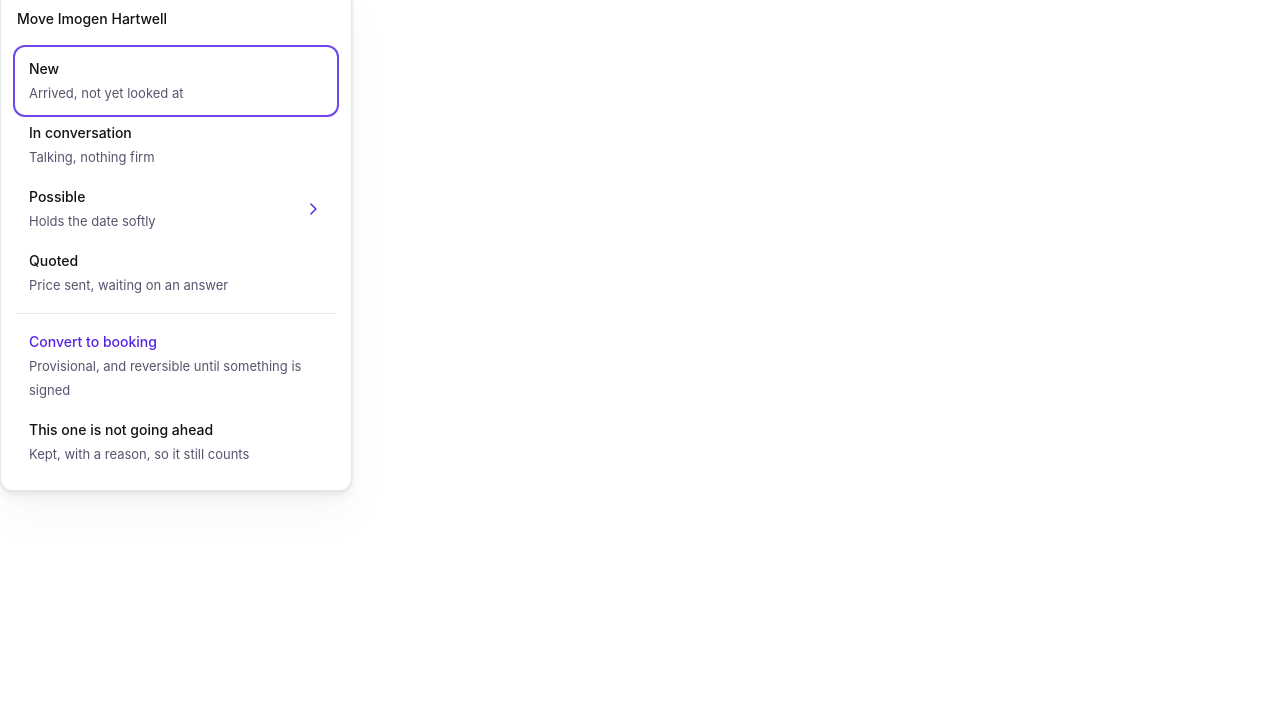
the second view › lists nine reasons under two headings
Click the button that starts with "This one is not going ahead": click(121, 430) [17, 410, 335, 474]
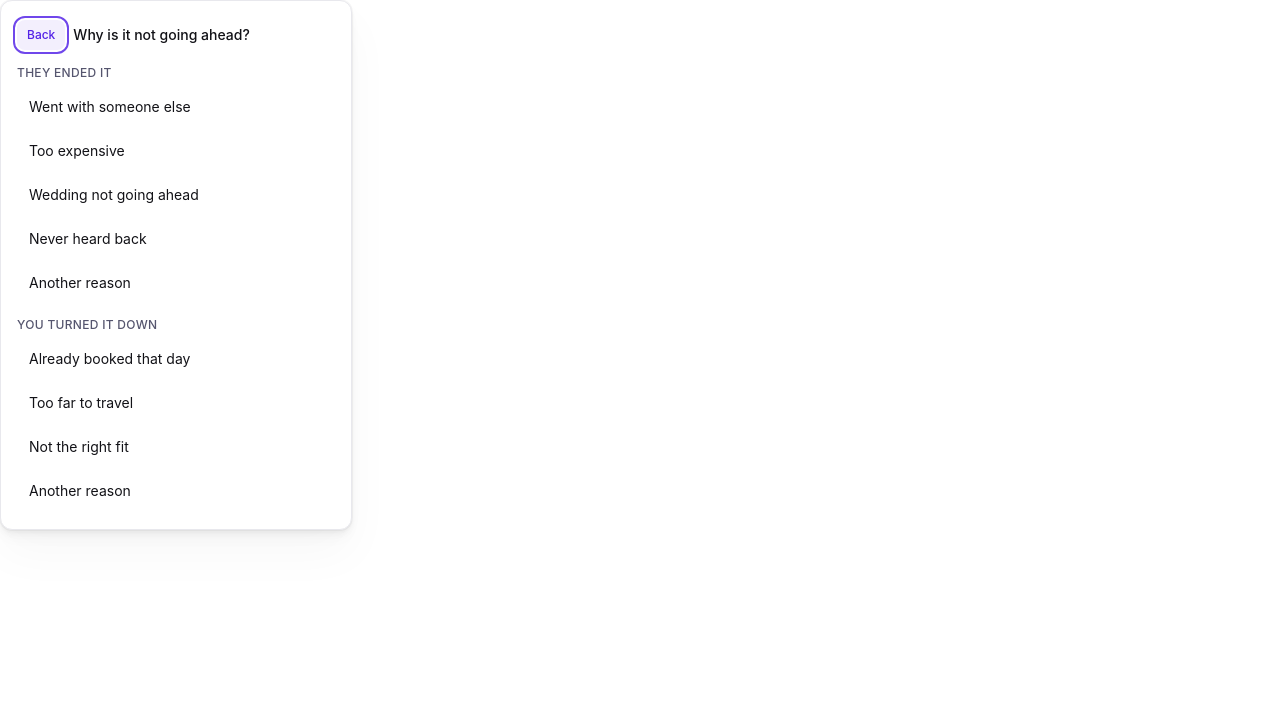
Check: the dialog shows "They ended it", box [17, 65, 112, 80]
Check: the dialog shows "You turned it down", box [17, 317, 157, 332]
Check: the dialog shows "Why is it not going ahead?", box [73, 26, 250, 43]
